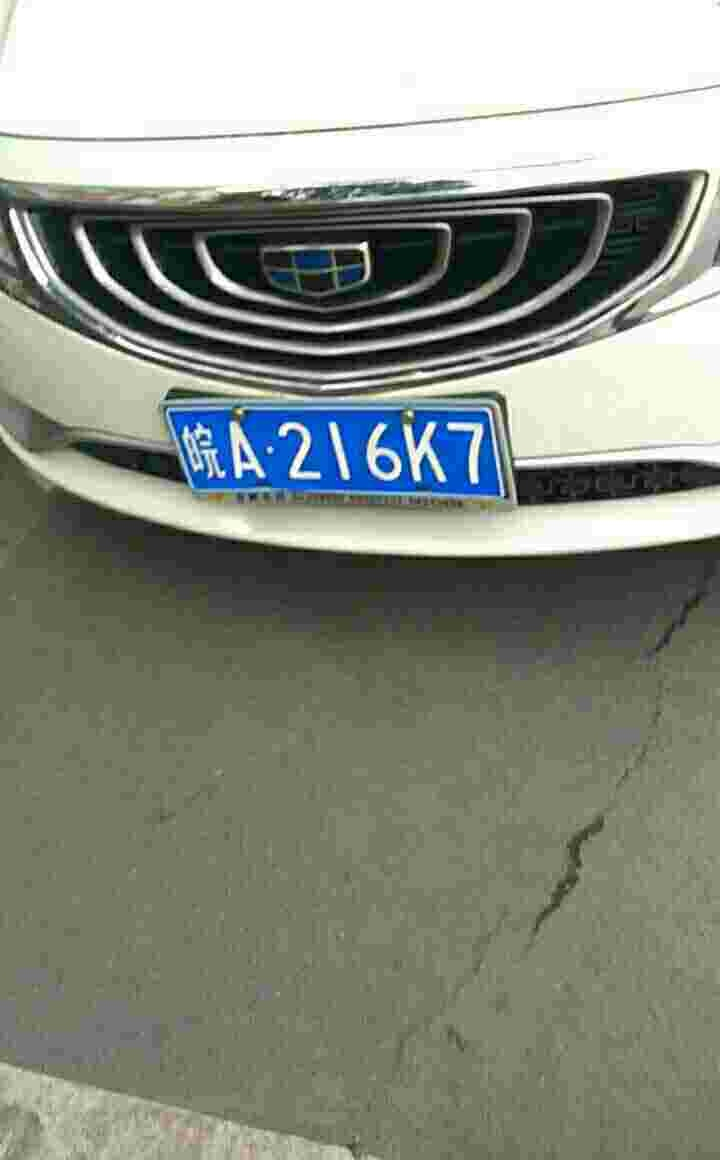license_plate: (165, 404, 517, 507)
